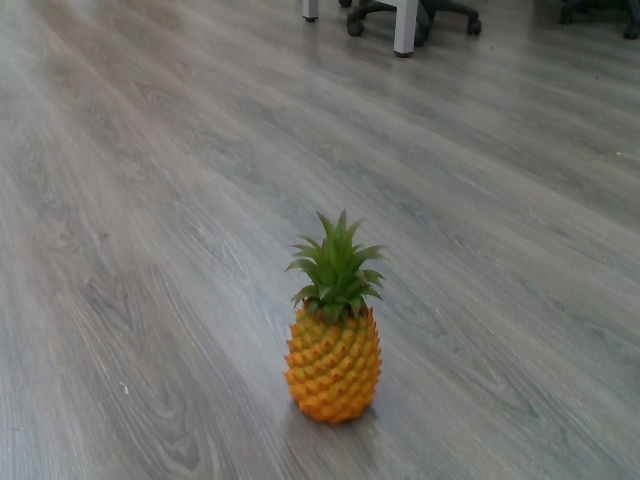pineapple: (279, 203, 390, 427)
